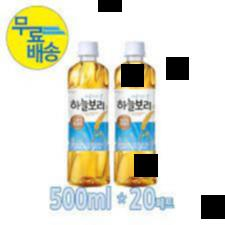haneulbori: (113, 42, 159, 186), (68, 43, 111, 186)
